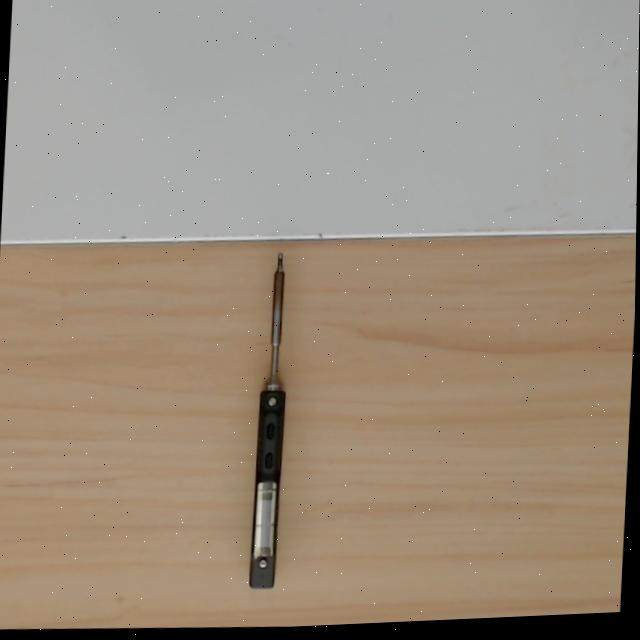Soldering-Iron: (245, 249, 297, 592)
